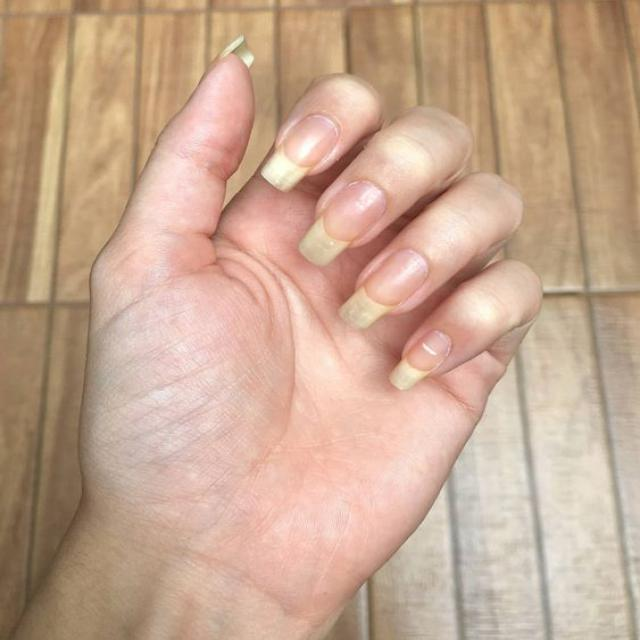Fingernail: (297, 180, 386, 268), (339, 250, 427, 330), (262, 116, 340, 193), (389, 331, 451, 392)
